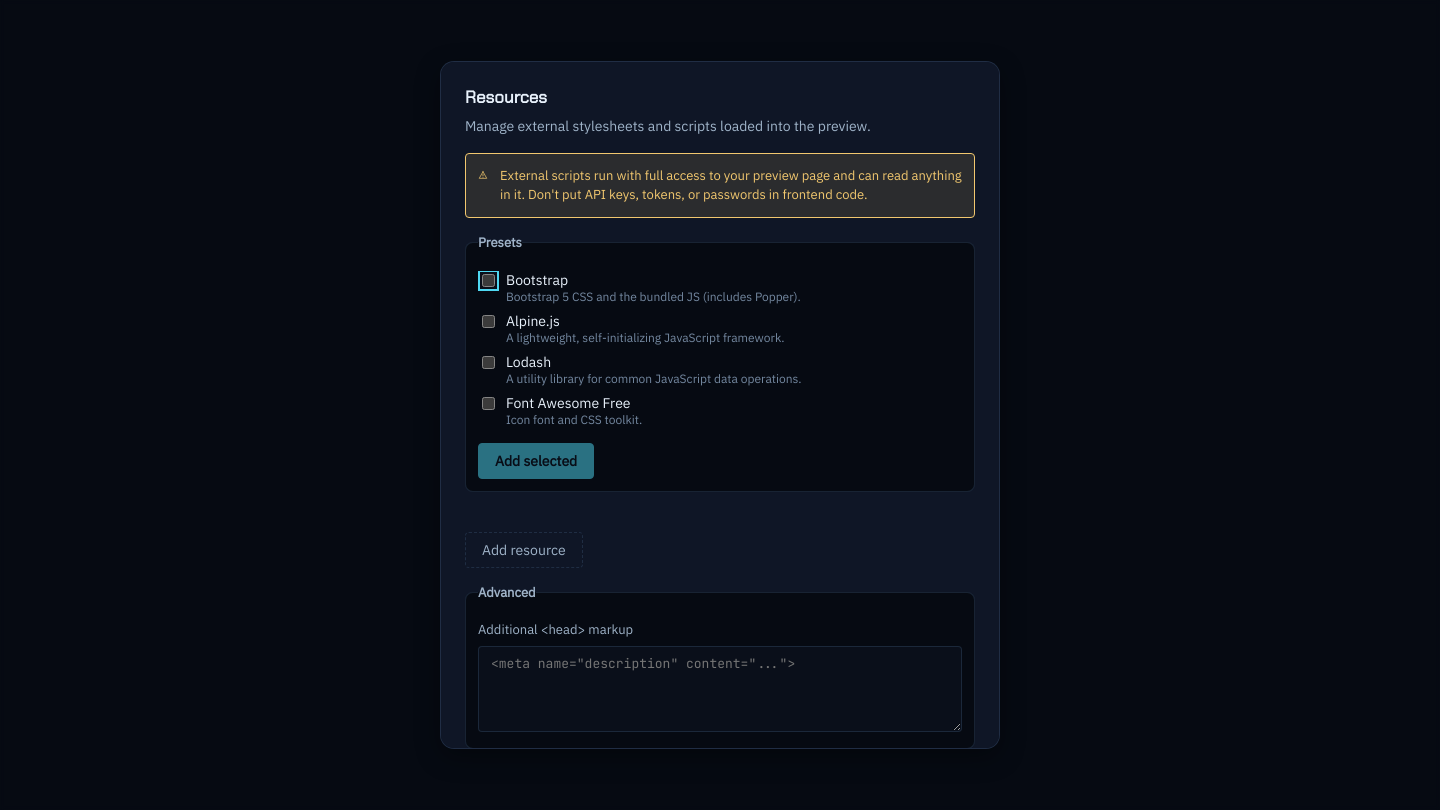
Test case: ResourceManagerDialog › applies a preset and adds its resources to the list
This screenshot has width=1440, height=810.
What coordinates should you click on to do the following:
click the checkbox labelled "Lodash"
I would click on:
 (488, 362)
Its box is [482,356,495,369].
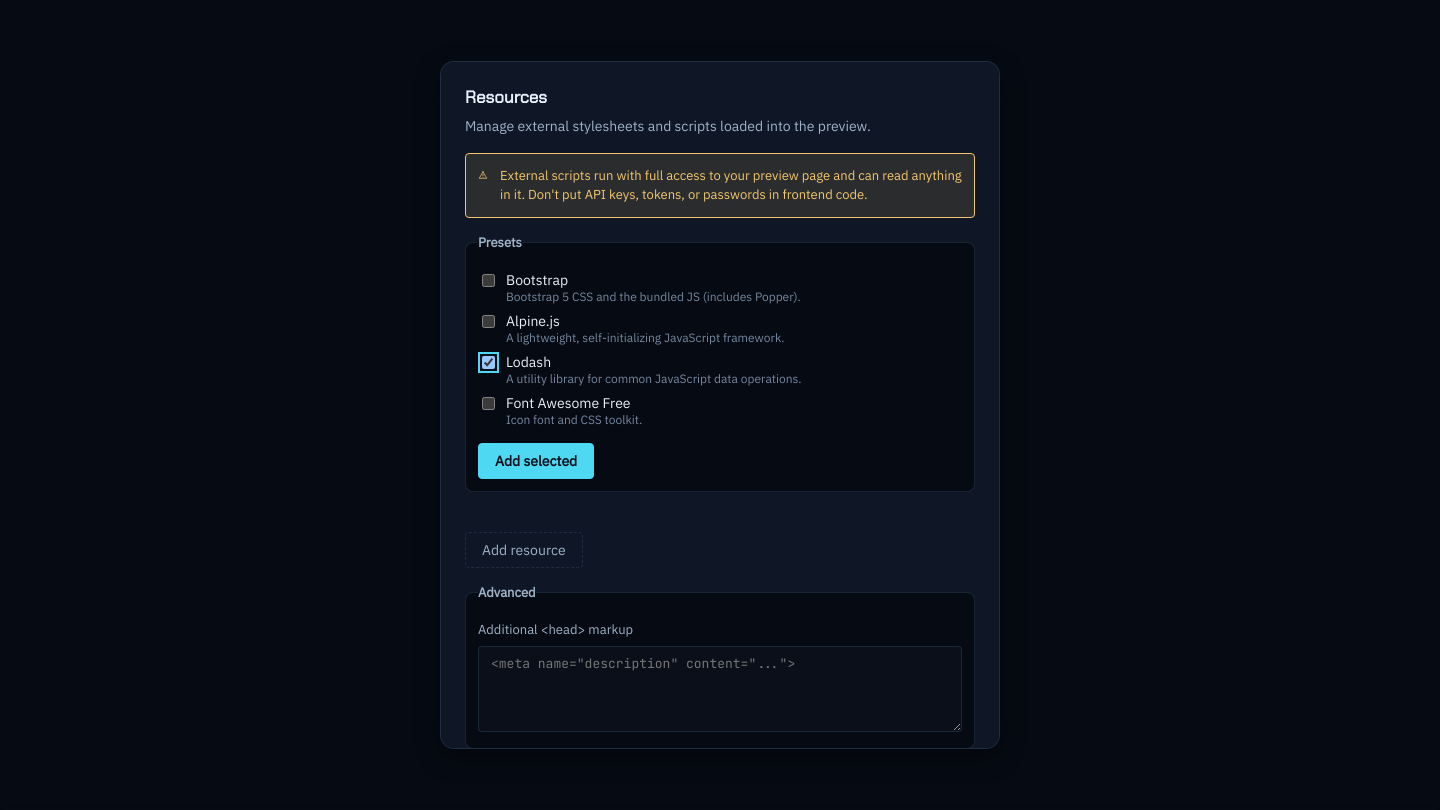
What coordinates should you click on to do the following:
click the button "Add selected"
I would click on:
 (536, 461)
Its box is [478,443,594,479].
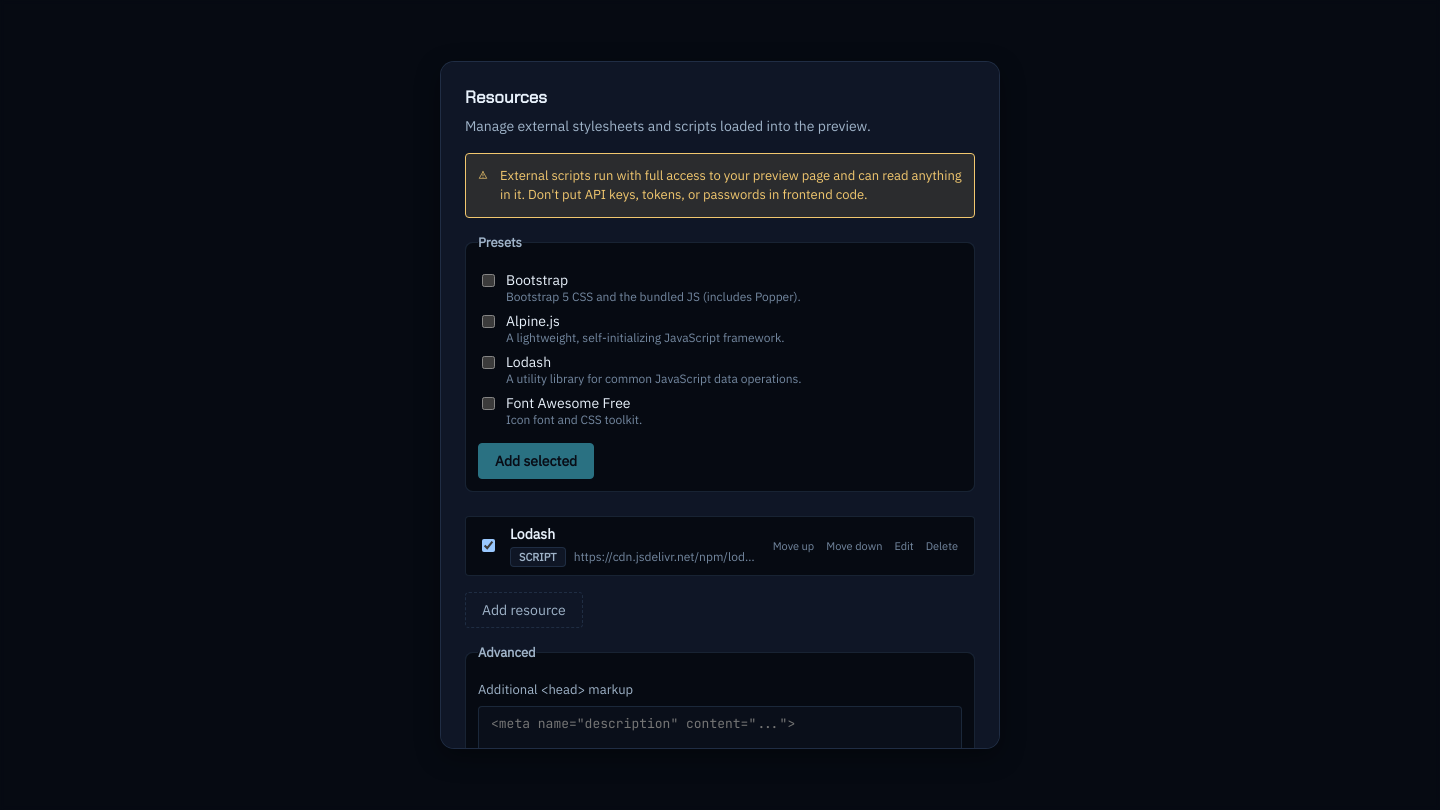
Check: the button with aria-label "Edit Lodash" is shown, box [890,535,918,557]
